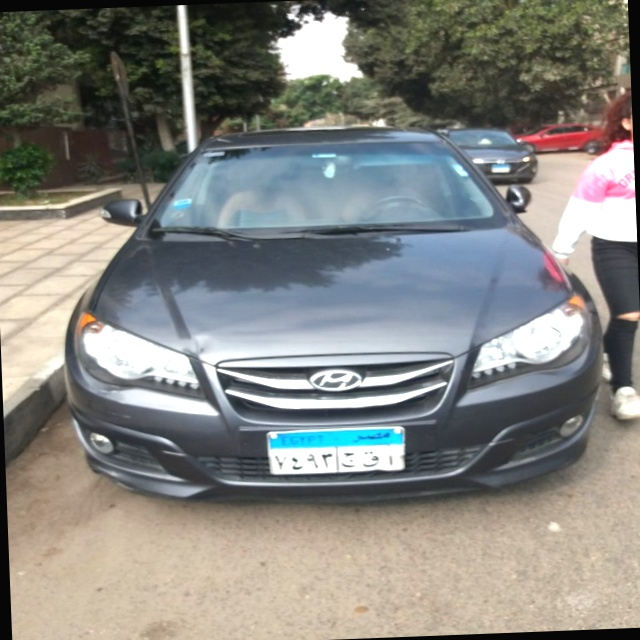License Plate: (265, 425, 409, 479)
